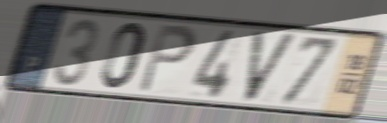0: (98, 20, 148, 91)
3: (53, 17, 100, 88)
4: (191, 28, 238, 101)
7: (281, 33, 344, 108)
P: (135, 22, 198, 96)
V: (243, 28, 300, 106)
